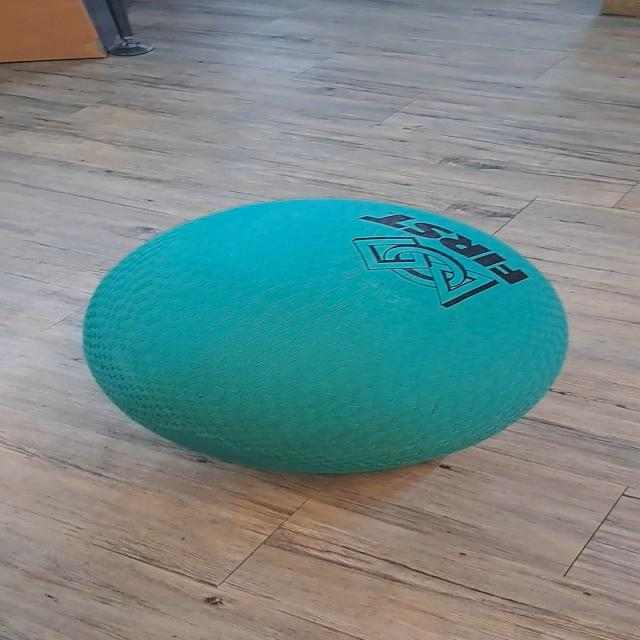ALGAE: (79, 195, 571, 476)
